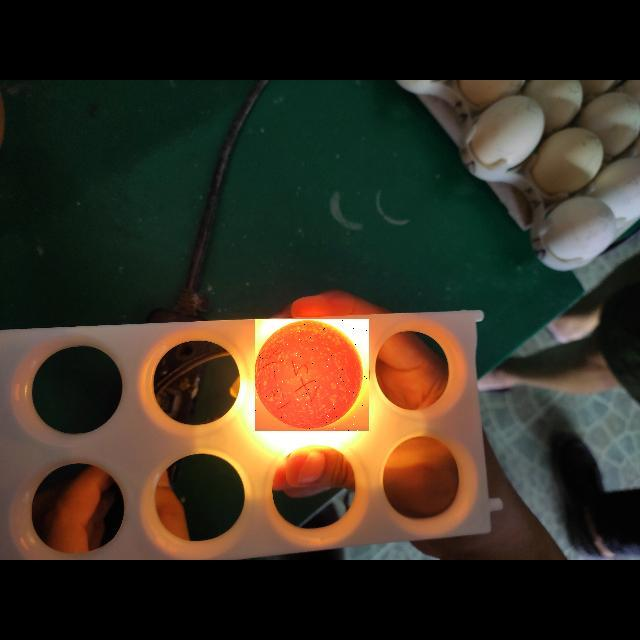A - Good: (255, 319, 369, 431)
